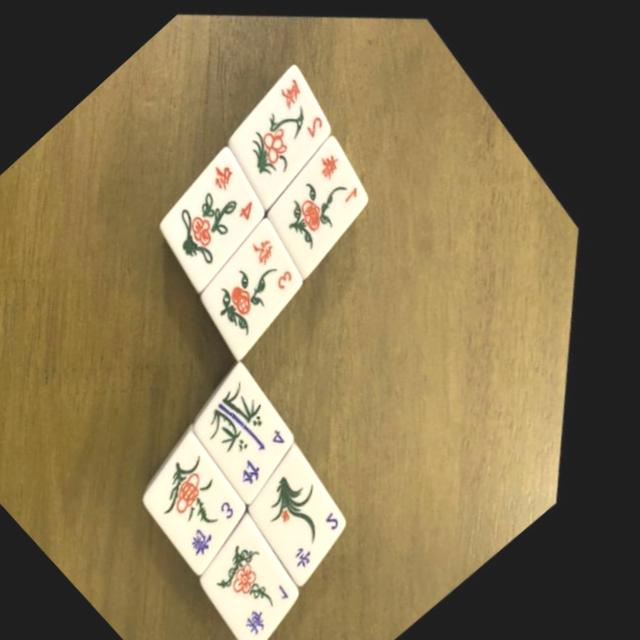bf1: (137, 442, 409, 640)
bf2: (212, 407, 441, 626)
bf3: (63, 361, 352, 638)
bf4: (116, 295, 395, 562)
bs1: (238, 100, 429, 283)
bs2: (145, 5, 425, 267)
bs3: (121, 149, 401, 417)
bs4: (78, 79, 363, 352)
